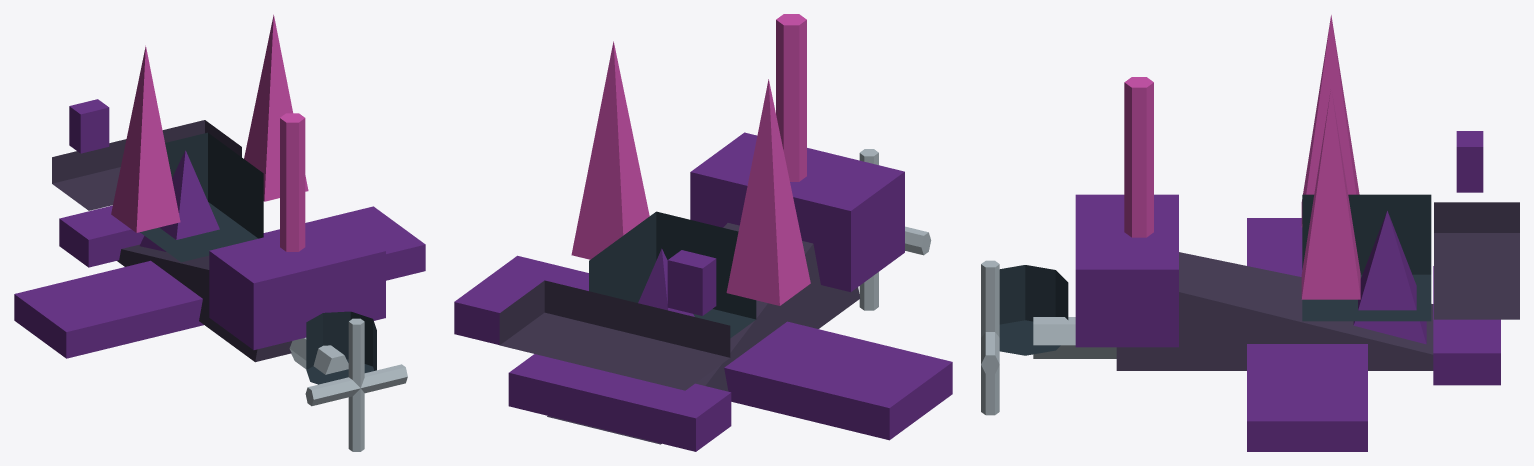
Rendered from scout-aircraft.obj.
3 renders of one model, left to right at view 1: azimuth 30°, elevation 25°; view 2: azimuth 150°, elevation 25°; view 3: azimuth 270°, elevation 25°, orthographic. The views are drawn at different scales.
Visible parts, largest first — view 1: air; view 2: air; view 3: air.
Boxes of the visible parts, bbox=[...] form: air: bbox=[14, 14, 425, 451]; air: bbox=[454, 14, 952, 451]; air: bbox=[981, 15, 1519, 451].
Bounding box in the file's own units: 1.63 × 1.35 × 1.82.
